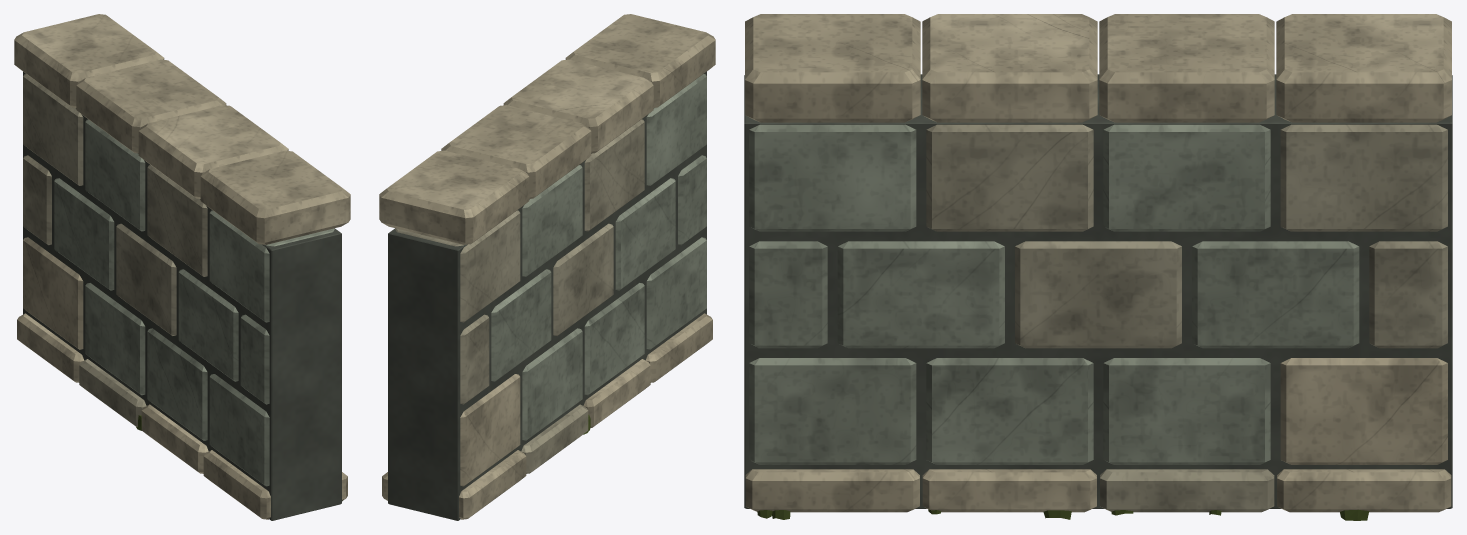
File: b03_wall_256.fbx
3 renders of one model, left to right at view 1: azimuth 30°, elevation 25°; view 2: azimuth 150°, elevation 25°; view 3: azimuth 270°, elevation 25°, orthographic. The views are drawn at different scales.
Visible parts, largest first — view 1: b03_wall_256; view 2: b03_wall_256; view 3: b03_wall_256.
Boxes of the visible parts, x1,y1,x2,y2 form: b03_wall_256: (14, 14, 350, 520); b03_wall_256: (379, 14, 715, 520); b03_wall_256: (744, 14, 1452, 520).
Bounding box in the file's own units: 5600 × 25600 × 17880.
